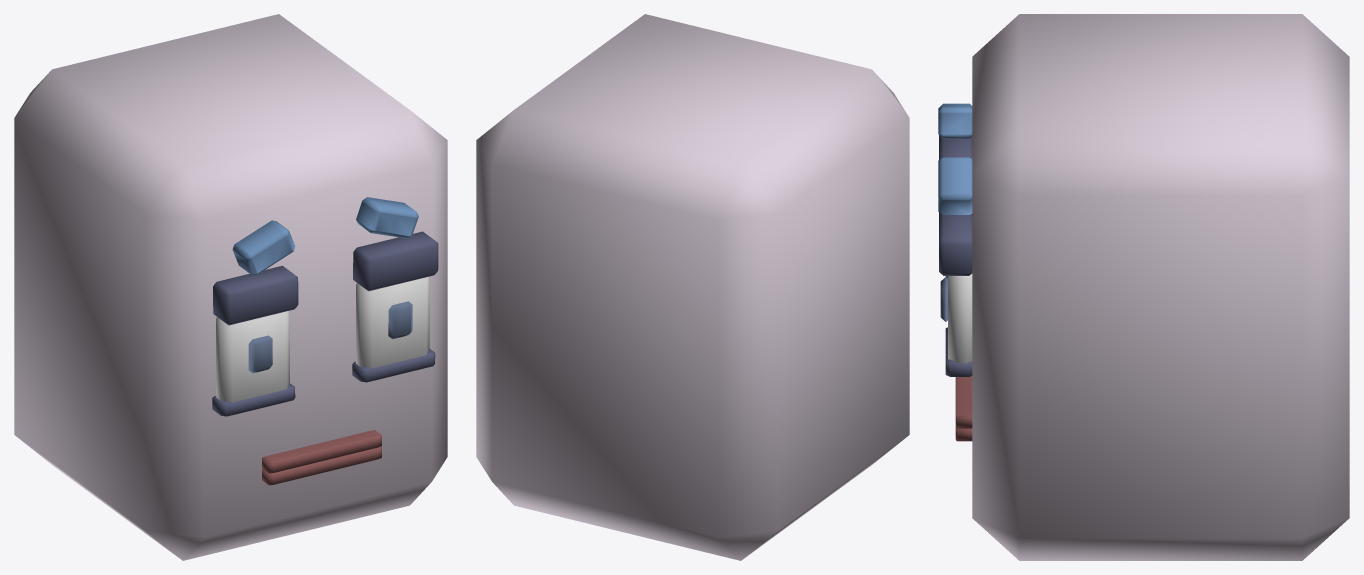
File: Robot_1.glb
The picture shows the model from 3 angles, left to right: view 1: azimuth 30°, elevation 25°; view 2: azimuth 150°, elevation 25°; view 3: azimuth 270°, elevation 25°; orthographic projection. The views are drawn at different scales.
Parts seen in each view (by area): view 1: robot; view 2: robot; view 3: robot.
Part boxes in pixels (x1,y1,x2,y2): robot: (14,14,447,560); robot: (476,14,909,560); robot: (938,14,1349,560).
Size of the model in its own units: 0.8 by 1 by 0.8717.
